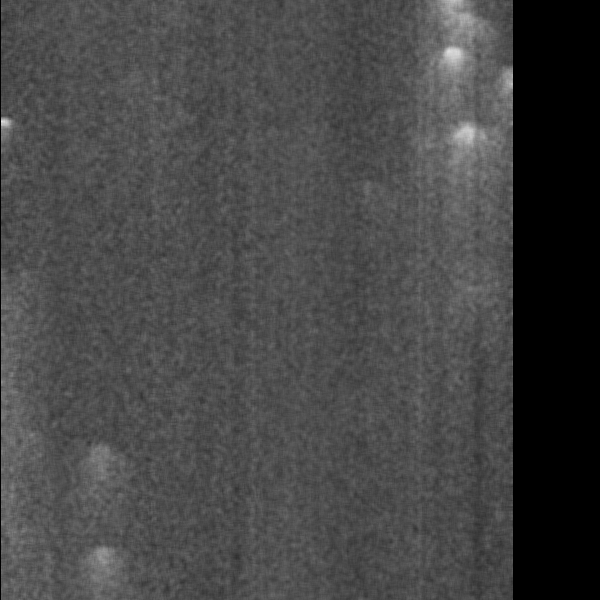spark: (247, 124, 302, 152)
